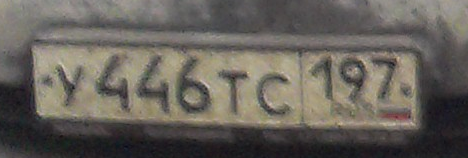character: (93, 54, 132, 116), (135, 53, 173, 115), (175, 54, 212, 116), (52, 60, 87, 112), (256, 68, 291, 116), (370, 51, 402, 103), (218, 66, 251, 115), (339, 52, 370, 103), (311, 54, 336, 107)
